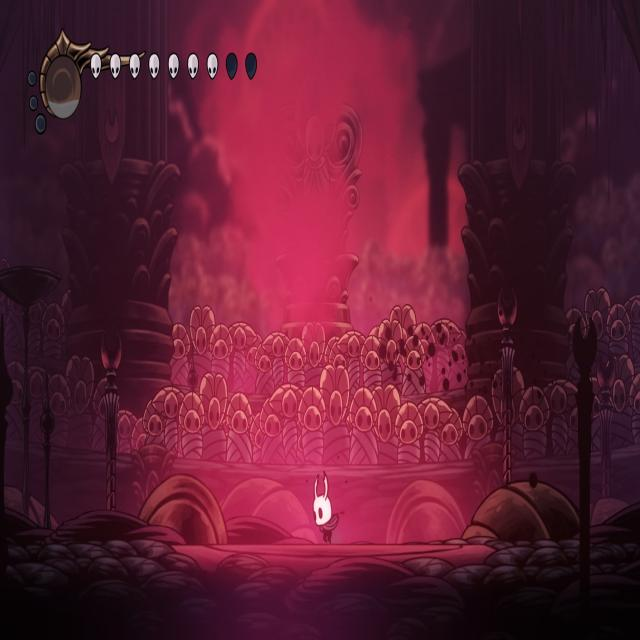Player: (312, 469, 342, 547)
